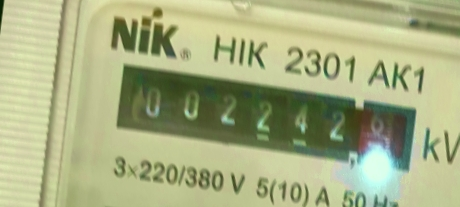0: (144, 85, 167, 121), (182, 88, 204, 123)
2: (255, 99, 277, 134), (220, 93, 242, 127), (329, 110, 350, 143)
4: (294, 102, 314, 136)
6: (370, 109, 389, 138)
screen: (105, 54, 431, 183)
